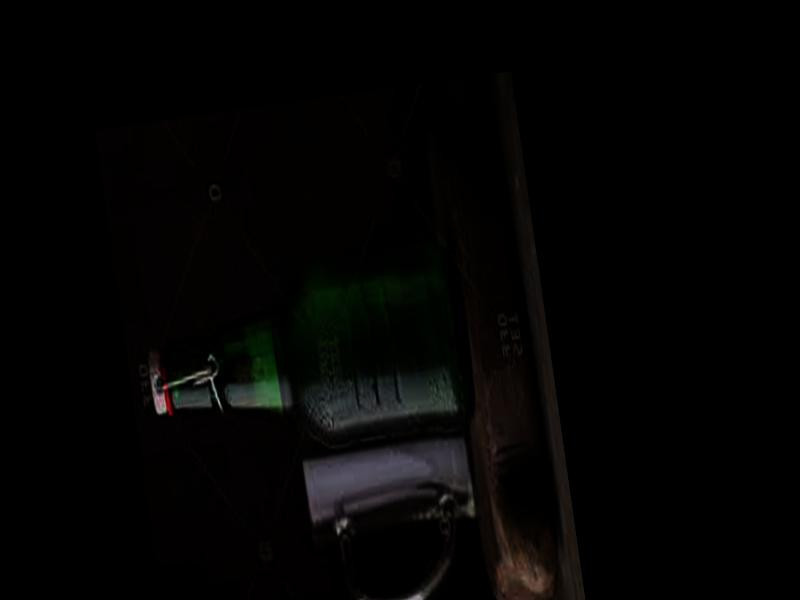Beer: (138, 246, 478, 466)
